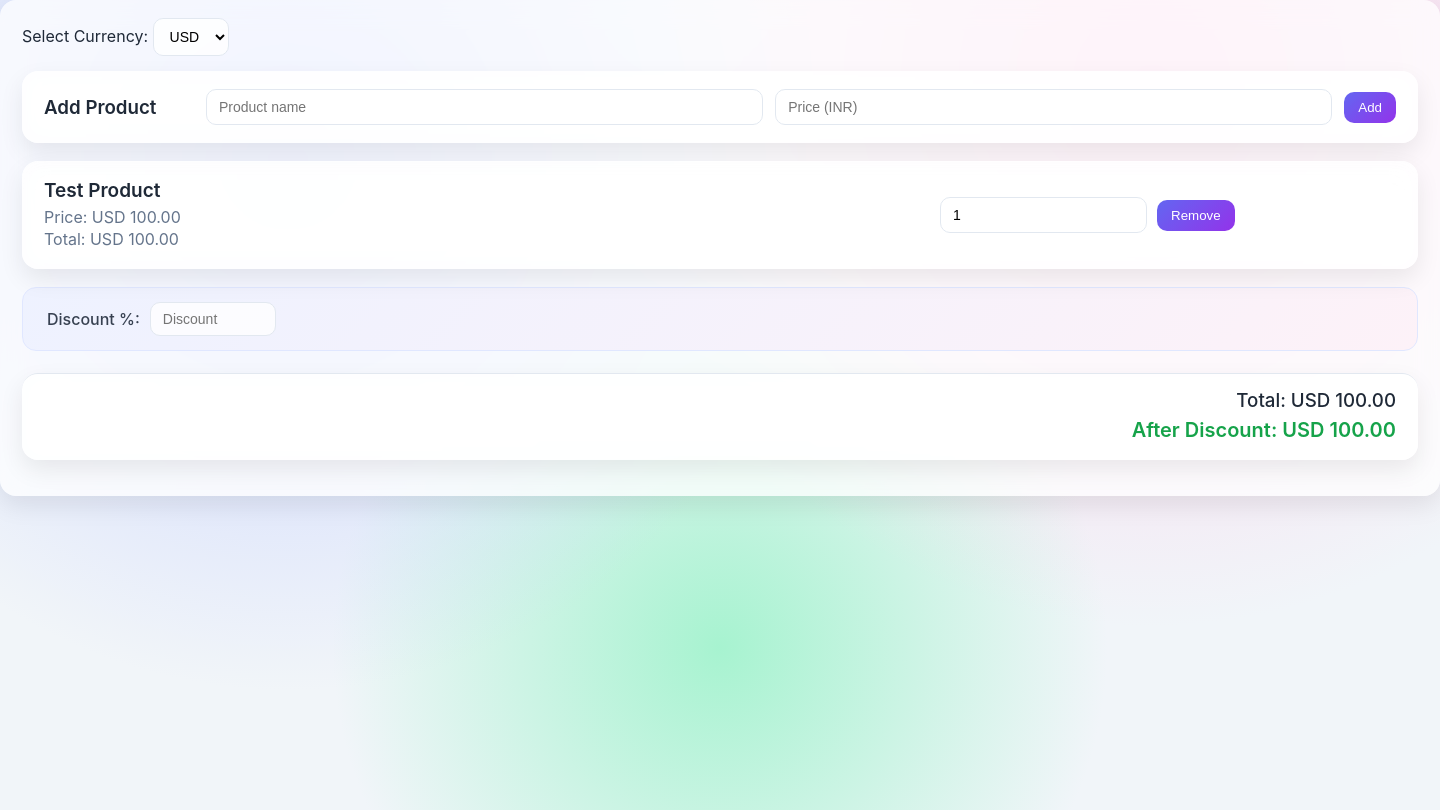
Scenario: removes product from cart
The image size is (1440, 810).
# Click Remove button
Click the button "Remove". click: click(1196, 215)
box: [1157, 200, 1235, 230]
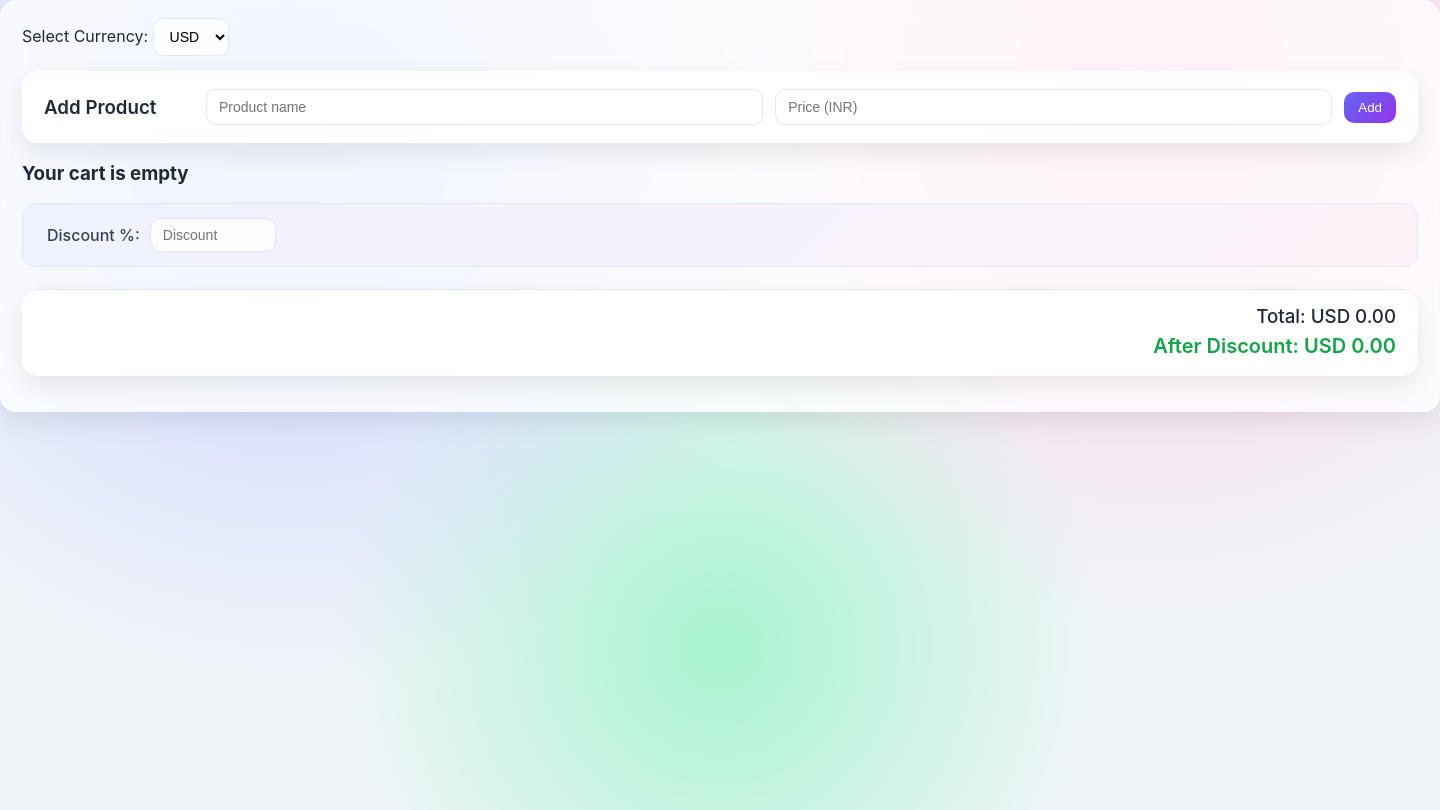
Expected: the heading "Your cart is empty" is shown, [22, 162, 189, 185]
